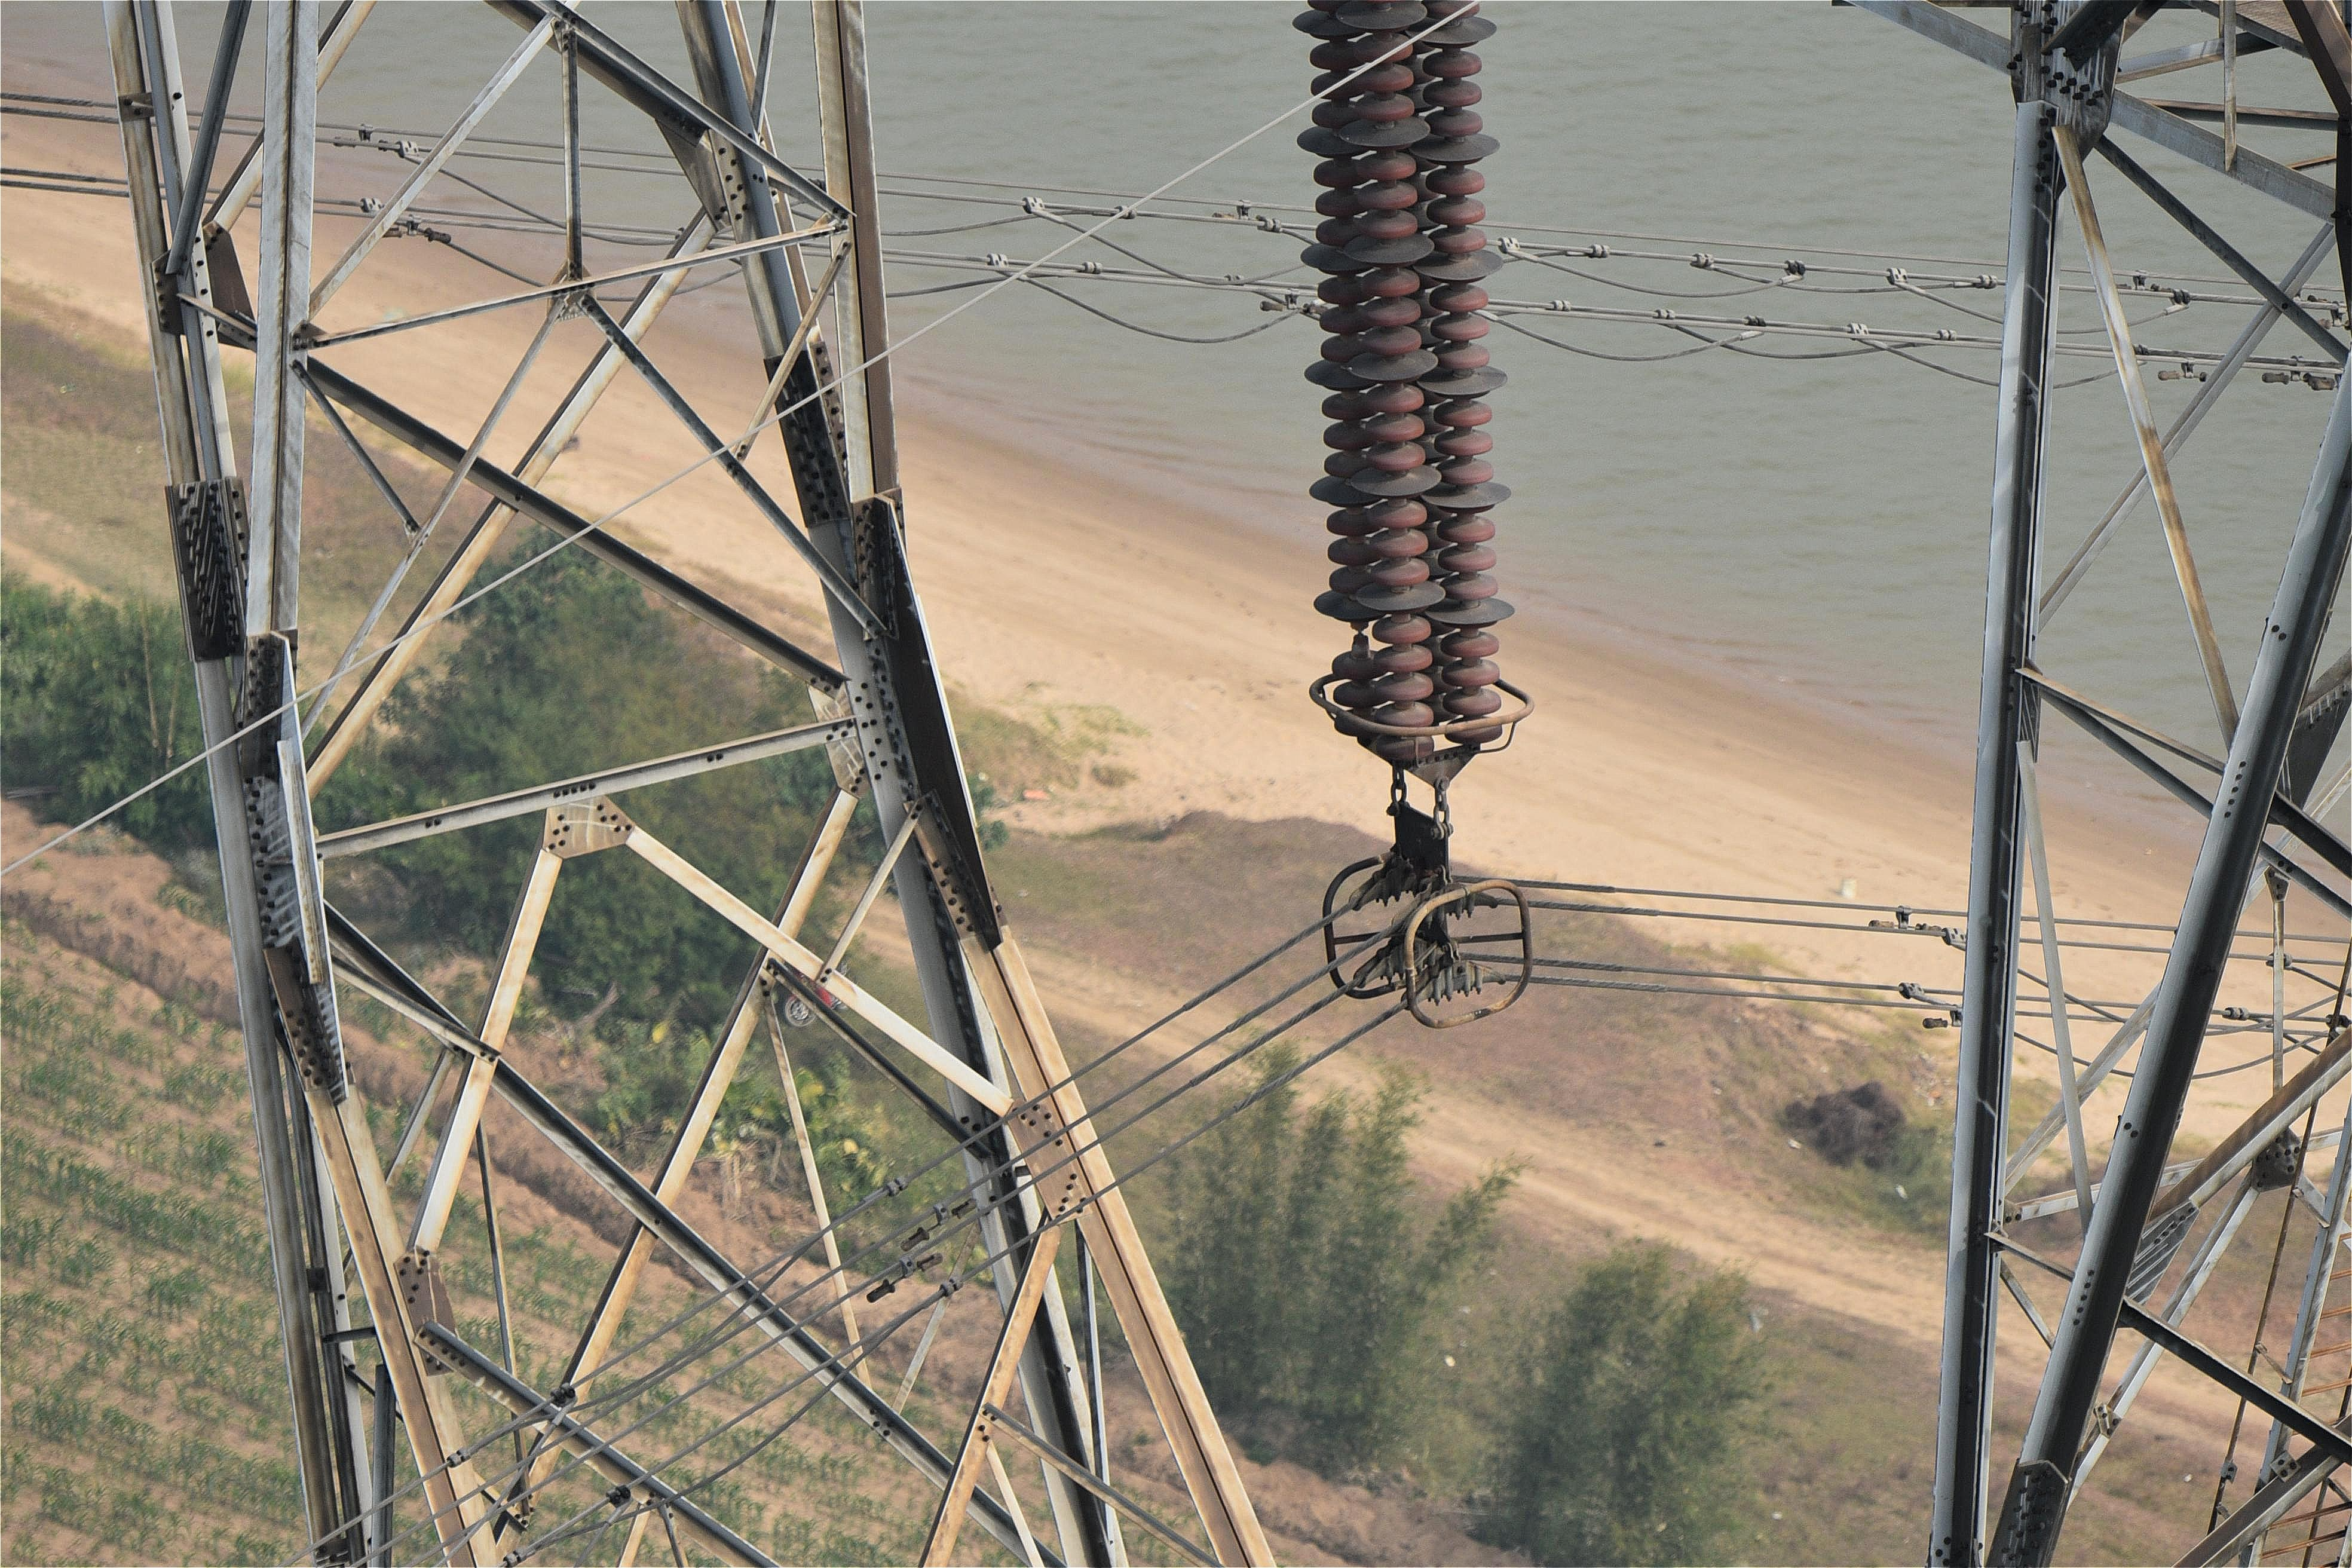insultor1: (1251, 0, 1601, 752)
